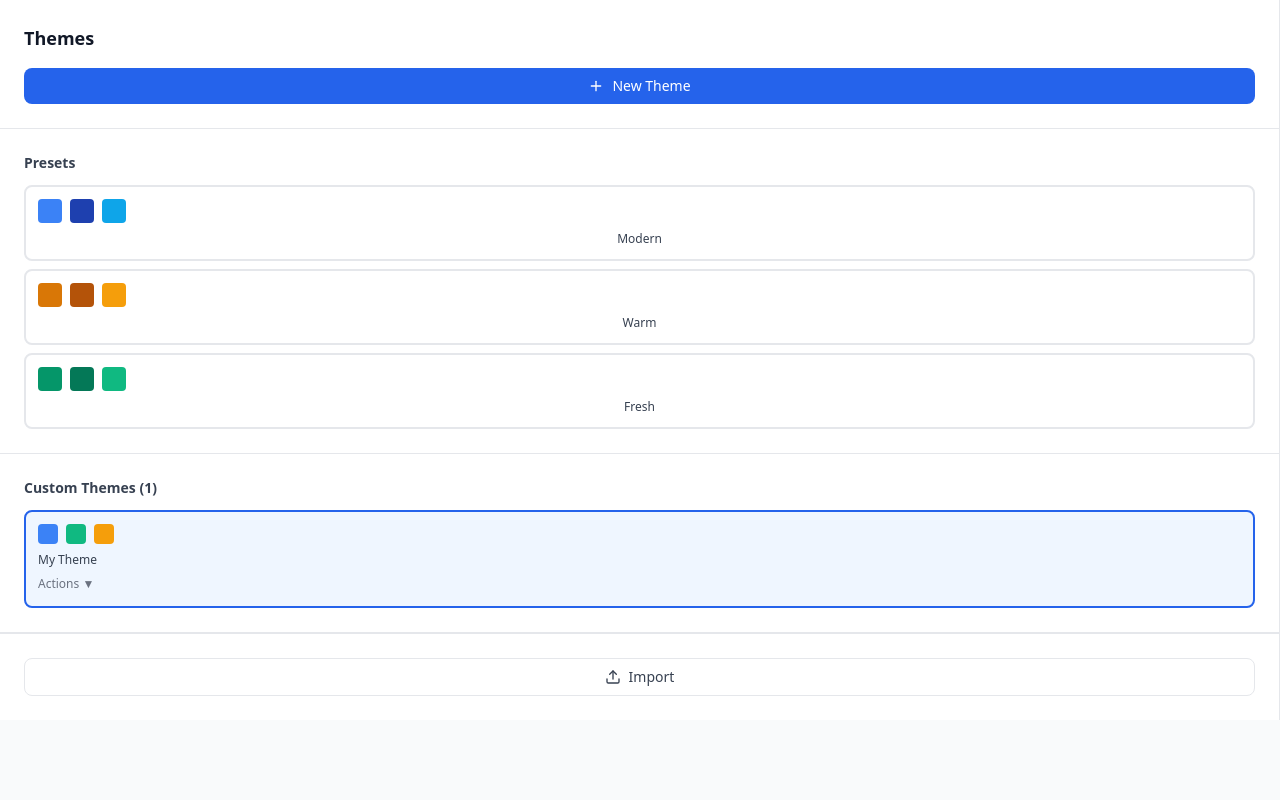
it: ThemeSelector › Theme Actions › should toggle actions menu
Click the button "Actions ▼".
click(66, 584)  # box [38,576,94,592]
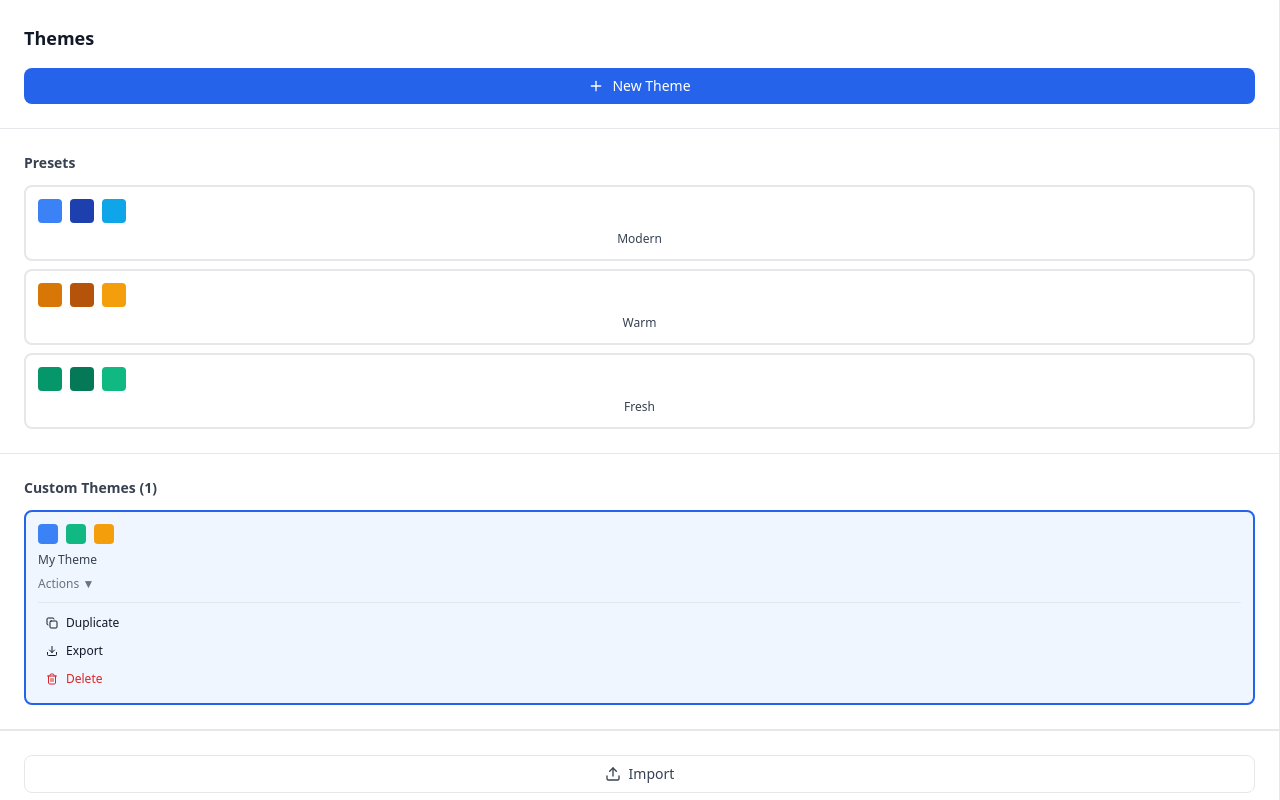
Expected: the button "Duplicate" is shown, [38,611,1241,635]
Expected: the button "Export" is shown, [38,639,1241,663]
Expected: the button "Delete" is shown, [38,667,1241,691]
